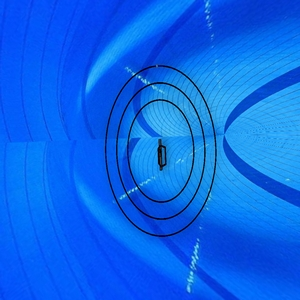circle: (102, 61, 220, 240)
submarine: (154, 136, 173, 173)
